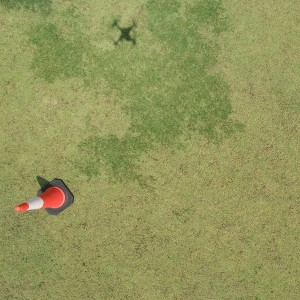traffic cone: (15, 179, 74, 215)
